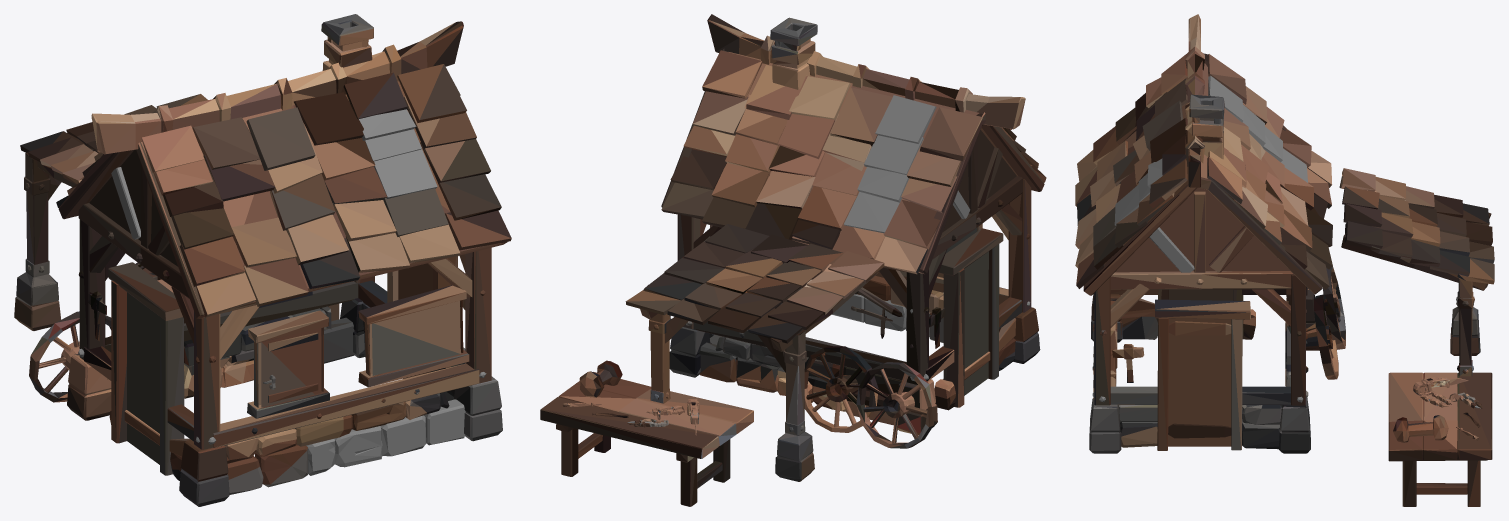
File: Workshop.glb
3 renders of one model, left to right at view 1: azimuth 30°, elevation 25°; view 2: azimuth 150°, elevation 25°; view 3: azimuth 270°, elevation 25°, orthographic. The views are drawn at different scales.
Parts seen in each view (by area): view 1: world; view 2: world; view 3: world.
Boxes of the visible parts, left/top/right/bottom form: world: left=14, top=14, right=511, bottom=506; world: left=540, top=14, right=1046, bottom=506; world: left=1075, top=14, right=1494, bottom=506.
Size of the model in its own units: 0.8926 by 0.9473 by 0.998.
